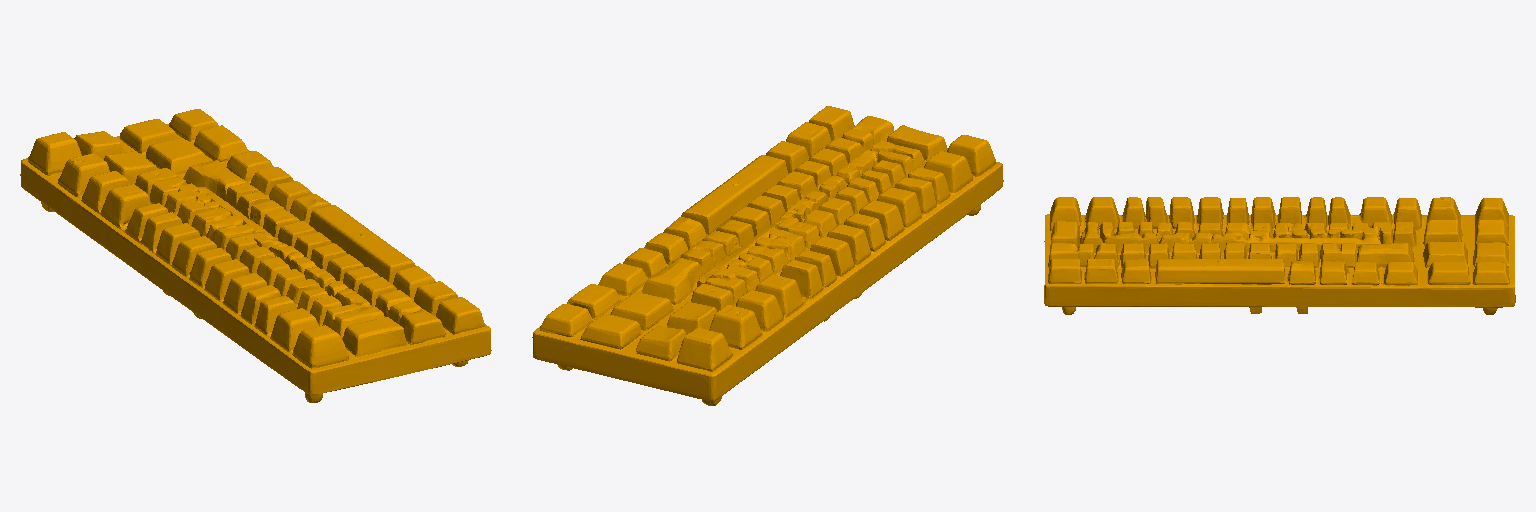
URDF robot description (sample):
<?xml version="1.0" ?>
<robot name="sample">
   <link name="sample">
      <visual>
         <origin xyz="0 0 0" rpy="1.5708 0.0 0.0"/>
         <geometry>
            <mesh filename="mesh/sample.obj" scale="1.0 1.0 1.0"/>
         </geometry>
      </visual>
      <collision>
         <origin xyz="0 0 0" rpy="1.5708 0.0 0.0"/>
         <geometry>
            <mesh filename="mesh/sample_collision.obj" scale="1.0 1.0 1.0"/>
         </geometry>
         <gazebo>
            <mu1>0.70</mu1>
            <mu2>0.55</mu2>
         </gazebo>
      </collision>
      <inertial>
         <mass value="1.0000"/>
         <origin xyz="0 0 0"/>
         <inertia ixx="1.0" ixy="0.0" ixz="0.0" iyy="1.0" iyz="0.0" izz="1.0"/>
      </inertial>
      <extra_info>
         <scale>0.369046</scale>
         <version>v0.1.7</version>
         <category>keyboard</category>
         <description>compact mechanical keyboard with blue and white keys</description>
         <min_height>0.04</min_height>
         <max_height>0.06</max_height>
         <real_height>0.05</real_height>
         <min_mass>0.8</min_mass>
         <max_mass>1.2</max_mass>
         <generate_time>20260401152000</generate_time>
         <gs_model>mesh/sample_gs.ply</gs_model>
      </extra_info>
   </link>
   <custom_data>
      <quality>
         <MeshGeoChecker>YES</MeshGeoChecker>
         <ImageSegChecker>NO, object is not centered and background artifacts remain.</ImageSegChecker>
         <ImageAestheticChecker>4.946000576019287</ImageAestheticChecker>
         <overall>NO</overall>
      </quality>
   </custom_data>
</robot>

--- Render facts (derived) ---
3 views of the same robot in one strip: view 1: azimuth 30°, elevation 25°; view 2: azimuth 150°, elevation 25°; view 3: azimuth 270°, elevation 25° (orthographic).
Model sample with 1 links and 0 joints (none), rooted at sample, posed all joints at 0.
Links seen in each view (by area): view 1: sample; view 2: sample; view 3: sample.
Boxes of the visible links, x1,y1,x2,y2 form: sample: (20, 109, 491, 402); sample: (532, 106, 1003, 405); sample: (1044, 197, 1515, 314).
Size in the robot's own frame: 0.1341 by 0.369 by 0.05 metres.
1 mesh visuals loaded from 1 distinct referenced files (1 OBJ).
